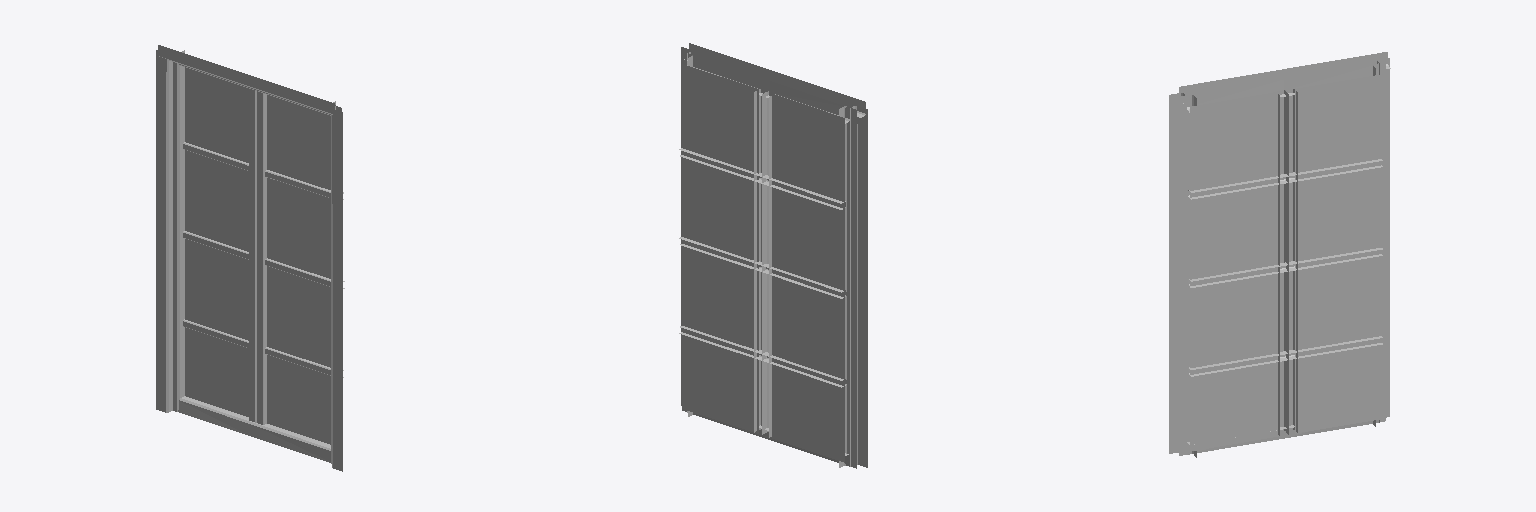
3 views of the same model, side by side, from view 1: azimuth 30°, elevation 25°; view 2: azimuth 210°, elevation 25°; view 3: azimuth 270°, elevation 25° (orthographic).
Parts seen in each view (by area): view 1: Bistro_Research_Exterior_Paris_Building_01_paris_buildi_8b98400; view 2: Bistro_Research_Exterior_Paris_Building_01_paris_buildi_8b98400; view 3: Bistro_Research_Exterior_Paris_Building_01_paris_buildi_8b98400.
Part boxes in pixels (bbox=[...]): Bistro_Research_Exterior_Paris_Building_01_paris_buildi_8b98400: bbox=[156, 45, 344, 471]; Bistro_Research_Exterior_Paris_Building_01_paris_buildi_8b98400: bbox=[679, 43, 867, 468]; Bistro_Research_Exterior_Paris_Building_01_paris_buildi_8b98400: bbox=[1169, 52, 1390, 457].
Bounding box in the file's own units: 0.8106 × 3.16 × 1.74.